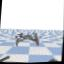drone: (15, 32, 42, 48)
